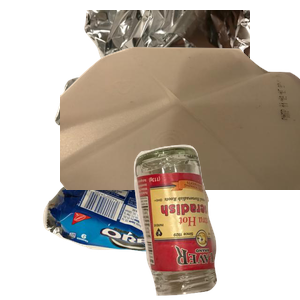glass: (131, 142, 300, 300)
metal: (52, 10, 292, 190)
plastic: (60, 44, 300, 224)
trash: (40, 158, 245, 300)
